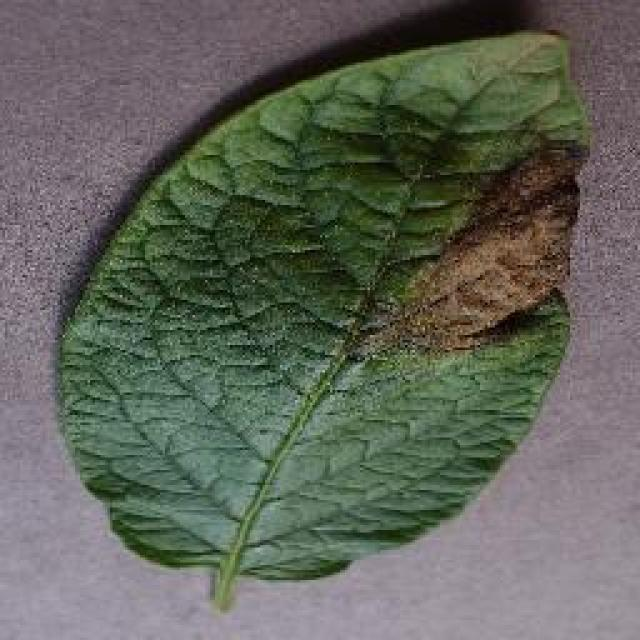late_blight: (50, 22, 592, 602)
